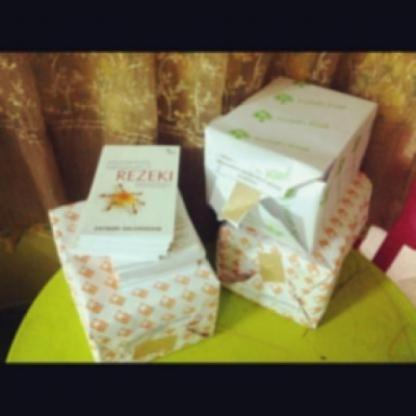-: (198, 159, 387, 352), (56, 189, 230, 368), (198, 78, 363, 240)
